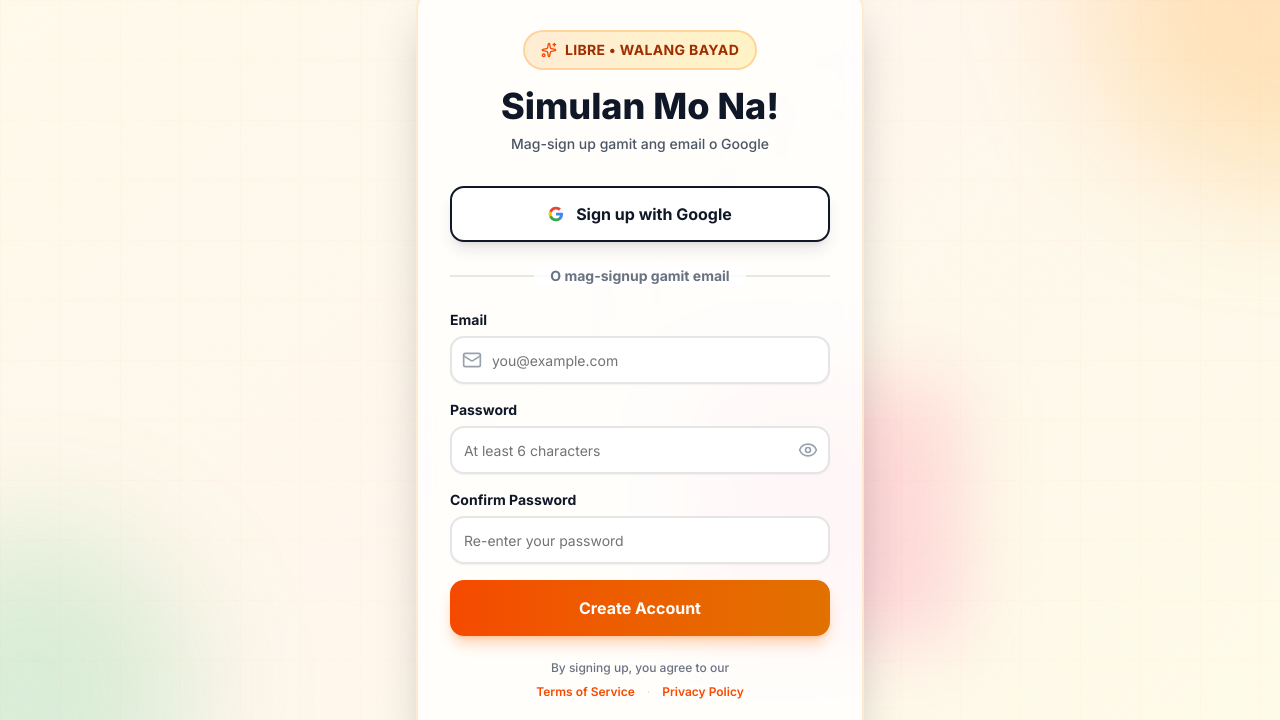
Test: Email Signup - SignupPage › passes through generic error message
(page scrolled)
Type "test@example.com" into the field labelled "Email" at (640, 360), box 450,336 -> 830,384
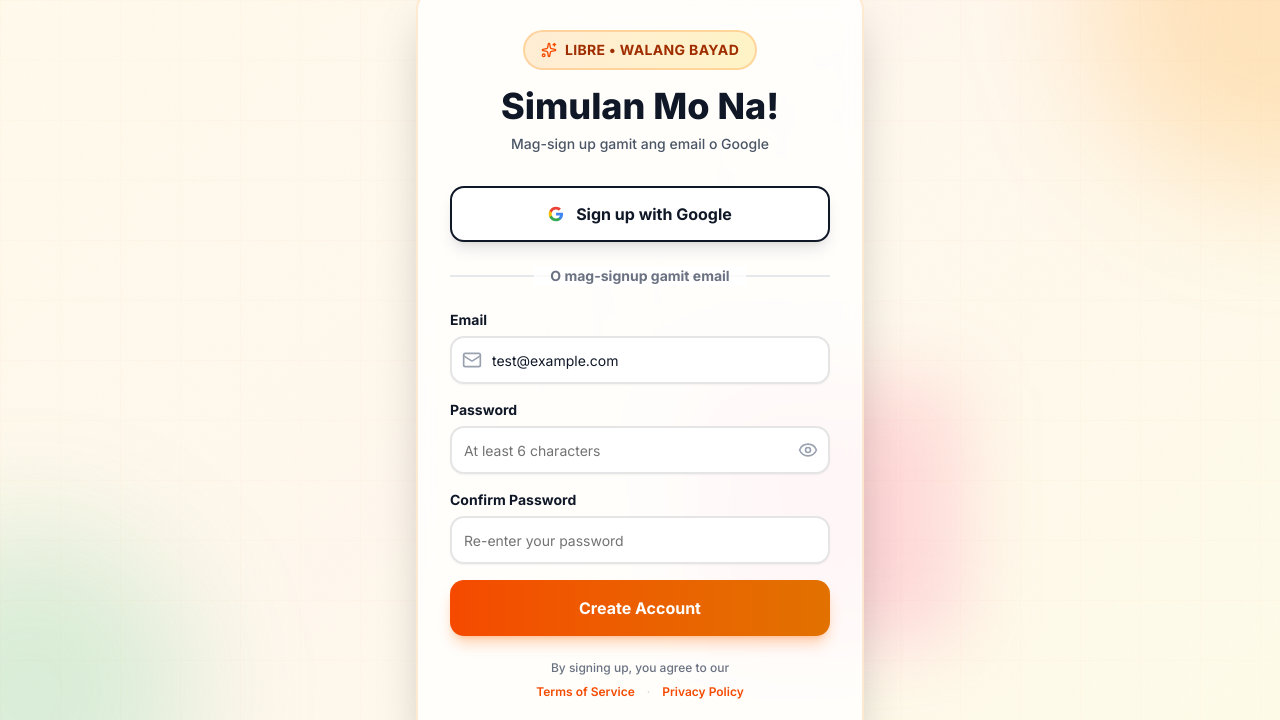
Type "password123" into the password field labelled "Password" at (640, 450), box 450,426 -> 830,474
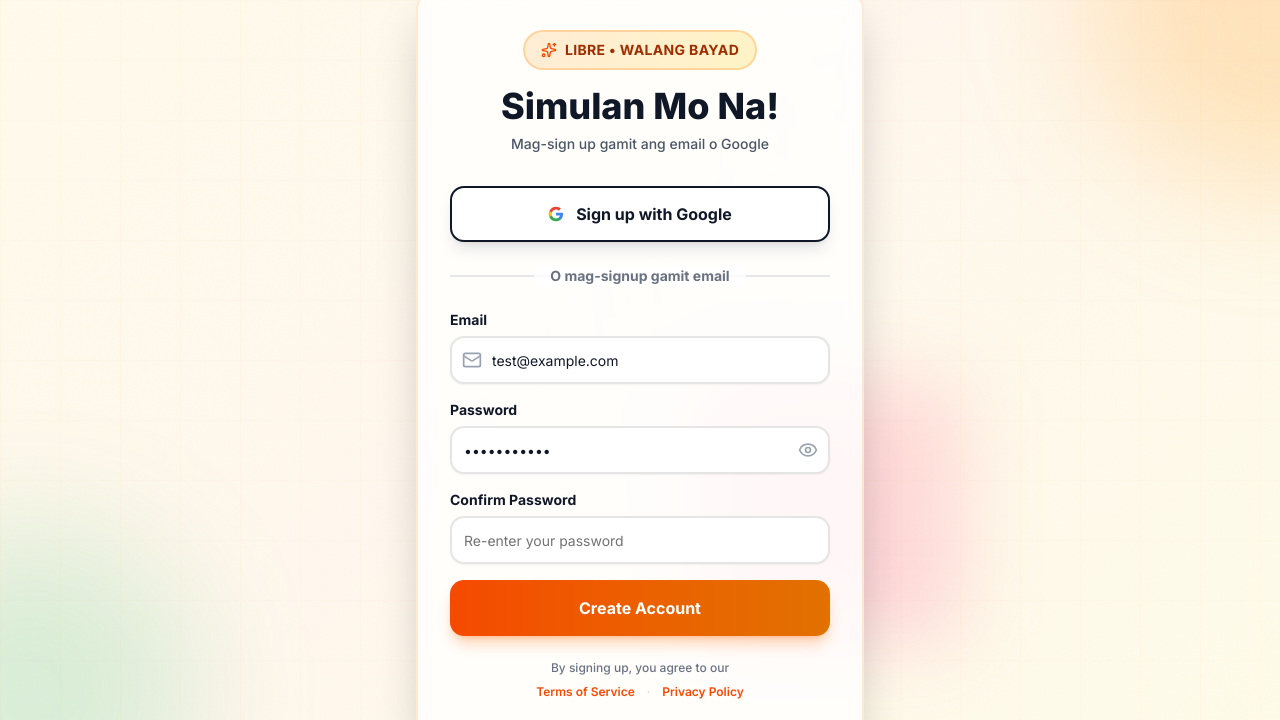
Type "password123" into the password field labelled "Confirm Password" at (640, 540), box 450,516 -> 830,564
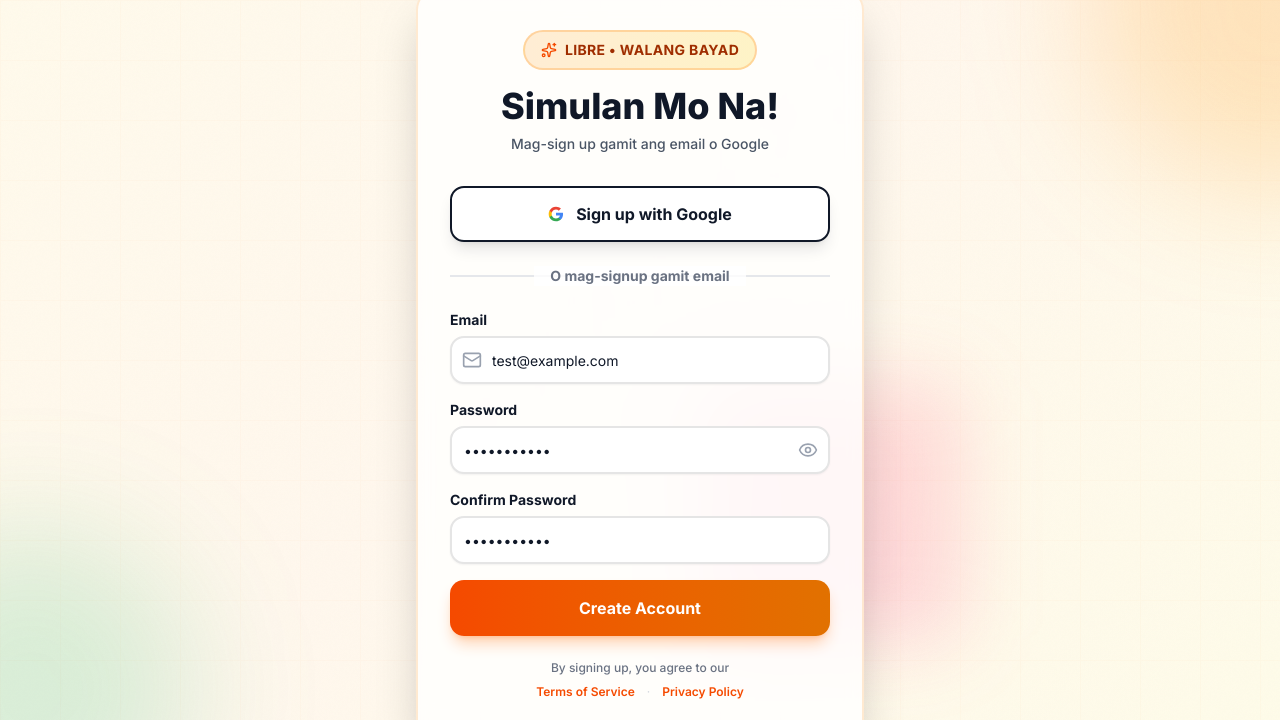
Click the button "Create Account" at (640, 608), box 450,580 -> 830,636
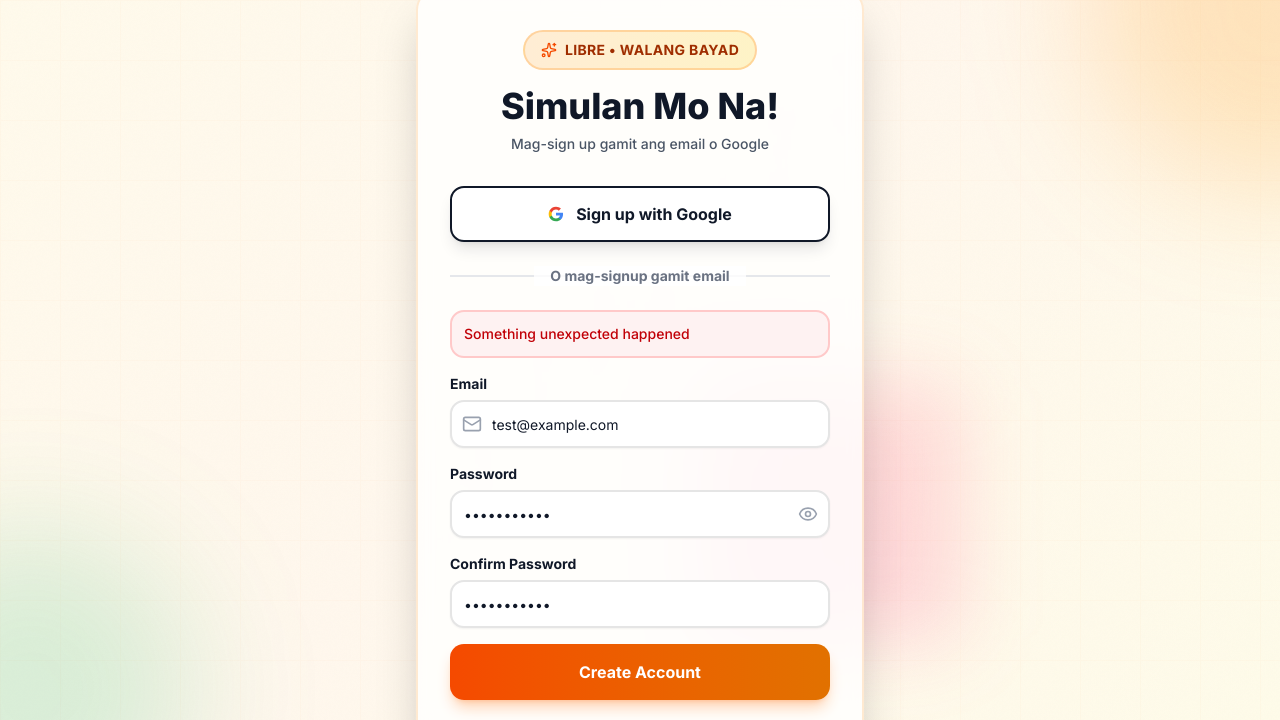
Now the text "Something unexpected happened" is shown, box 450,310 -> 830,358
